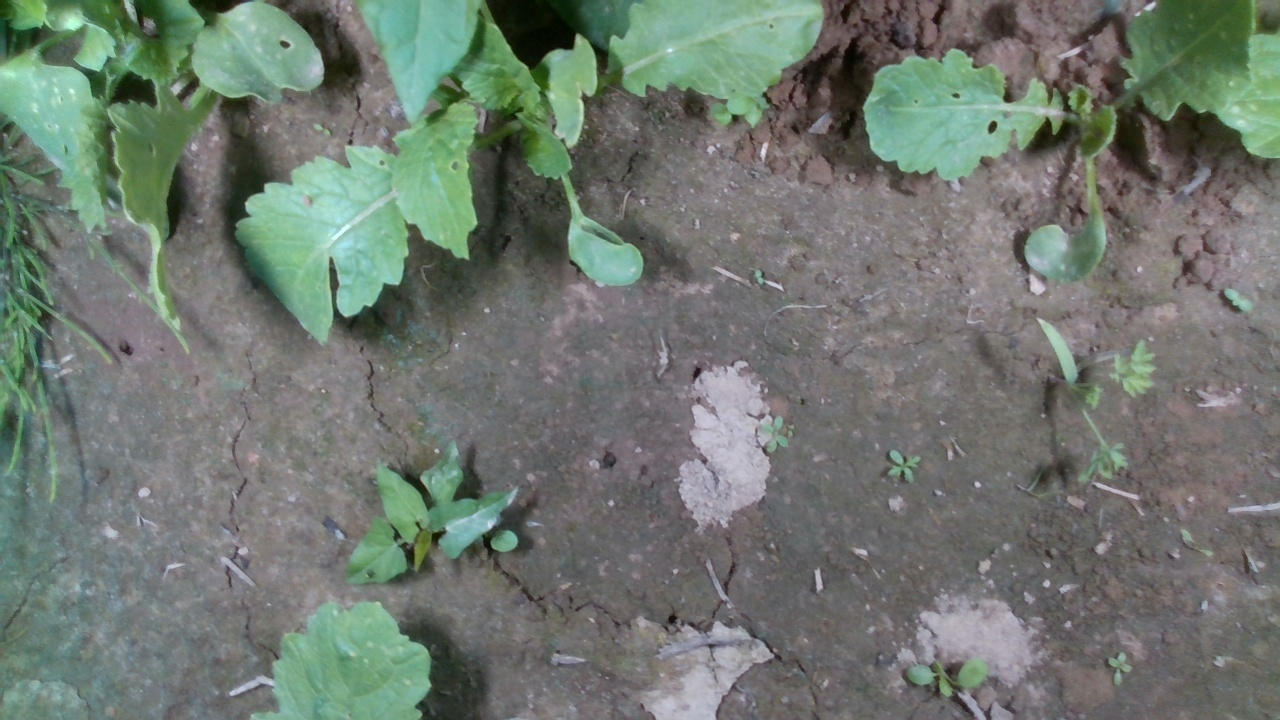weed: (758, 413, 791, 453), (885, 448, 921, 484), (1105, 651, 1133, 686)
